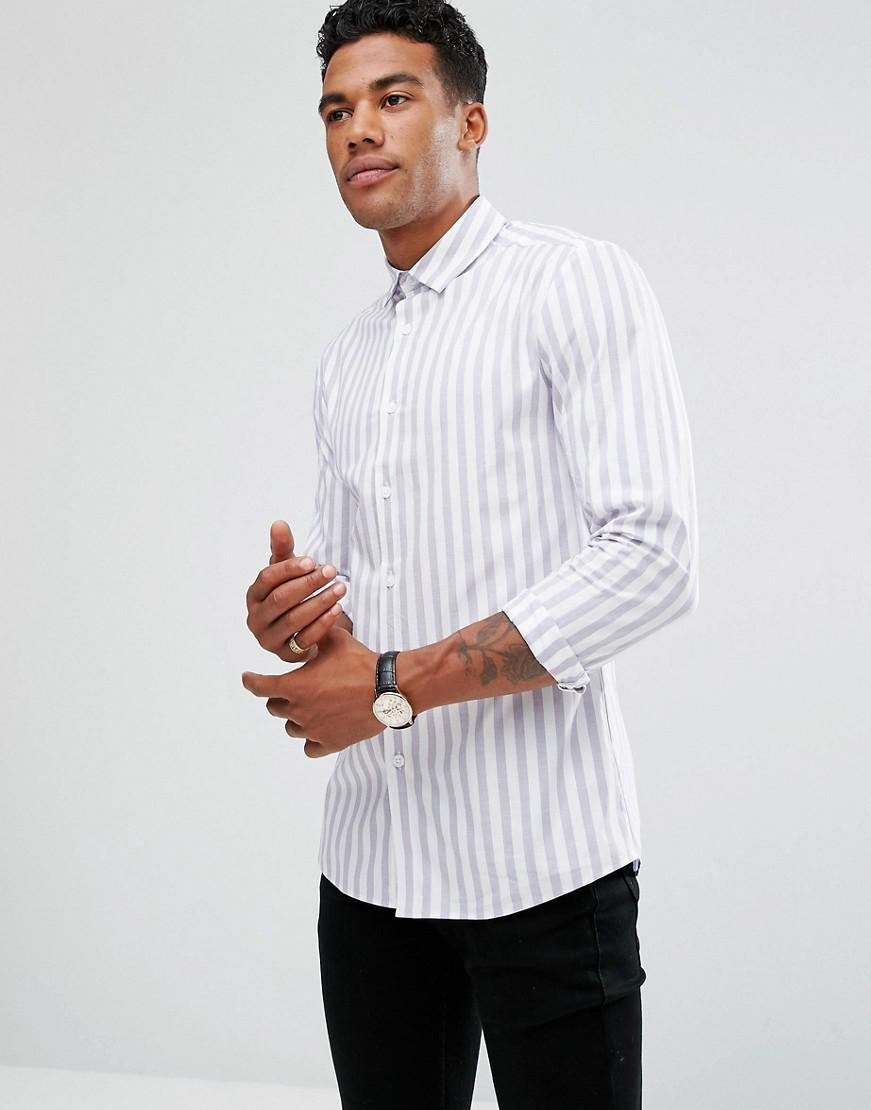teeshirt: (274, 201, 710, 924)
